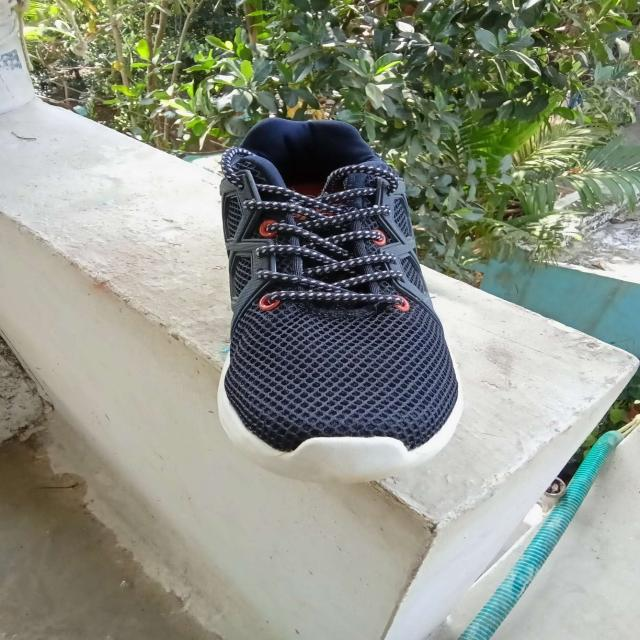shoe: (216, 113, 464, 484)
